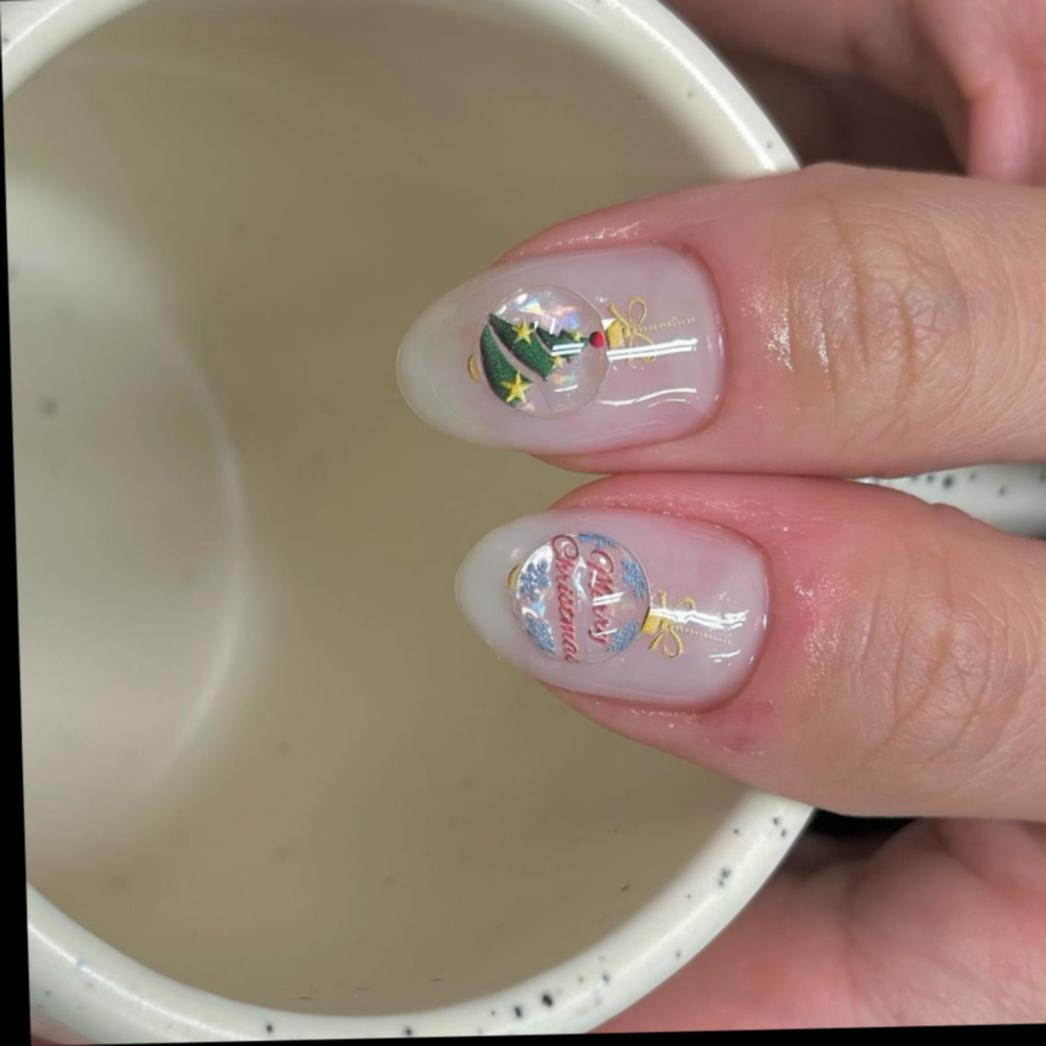nail: (393, 239, 734, 459), (452, 497, 780, 717)
